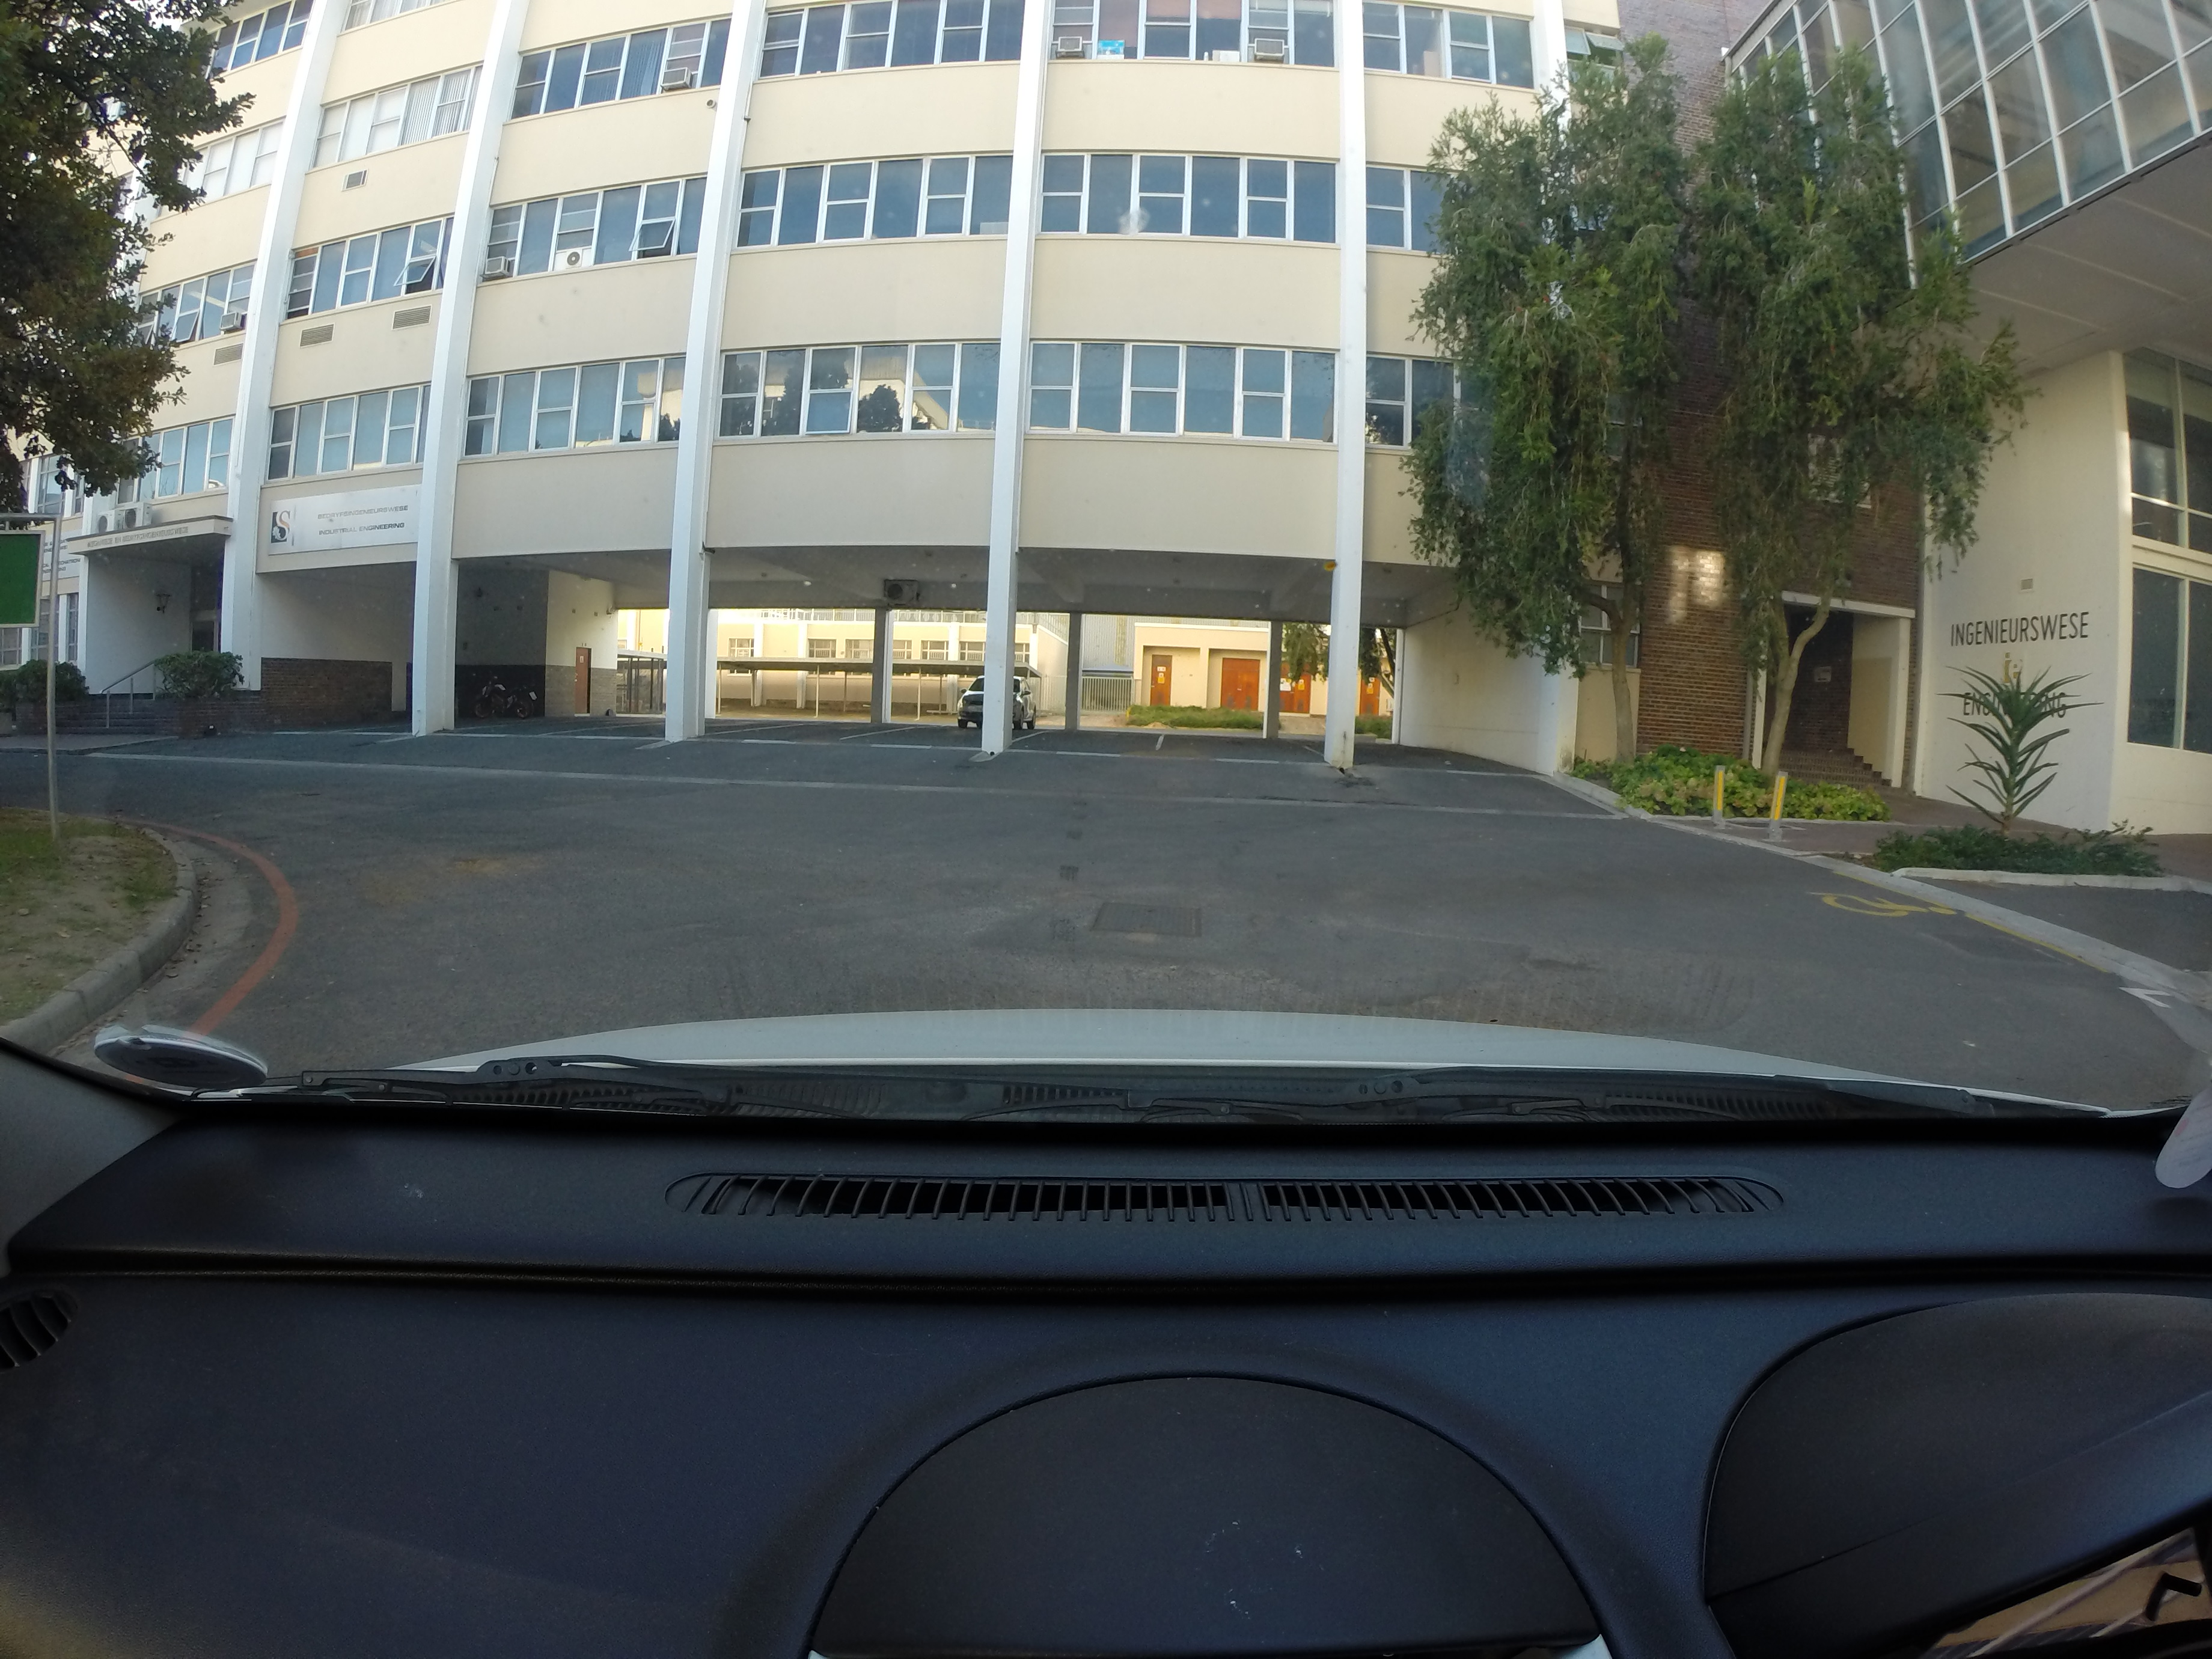pothole: (427, 847, 549, 884)
